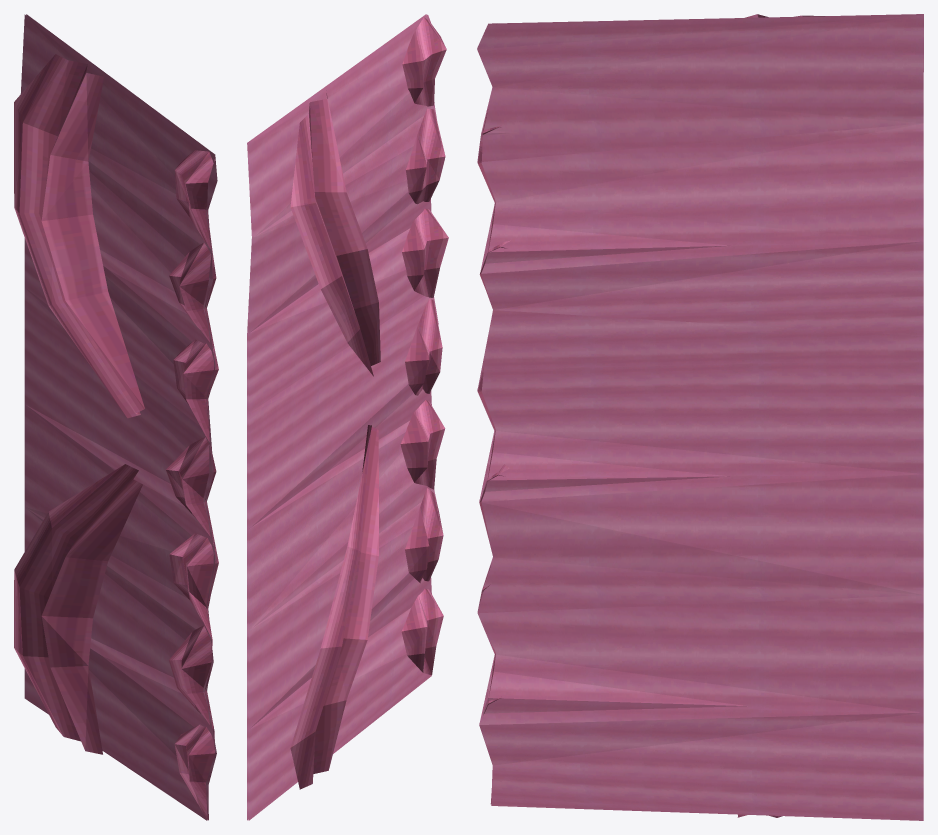
The model's file is huisuo_dongxue_209_qiang01.obj.
3 views of the same model, side by side, from view 1: azimuth 30°, elevation 25°; view 2: azimuth 150°, elevation 25°; view 3: azimuth 270°, elevation 25° (orthographic). The views are drawn at different scales.
Visible parts, largest first — view 1: huisuo_dongxue_209_qiang01; view 2: huisuo_dongxue_209_qiang01; view 3: huisuo_dongxue_209_qiang01.
Boxes of the visible parts, x1,y1,x2,y2 form: huisuo_dongxue_209_qiang01: [14, 14, 218, 820]; huisuo_dongxue_209_qiang01: [247, 14, 448, 820]; huisuo_dongxue_209_qiang01: [477, 14, 923, 820].
Size of the model in its own units: 35.12 by 401 by 201.
2 materials, 2 textured.
